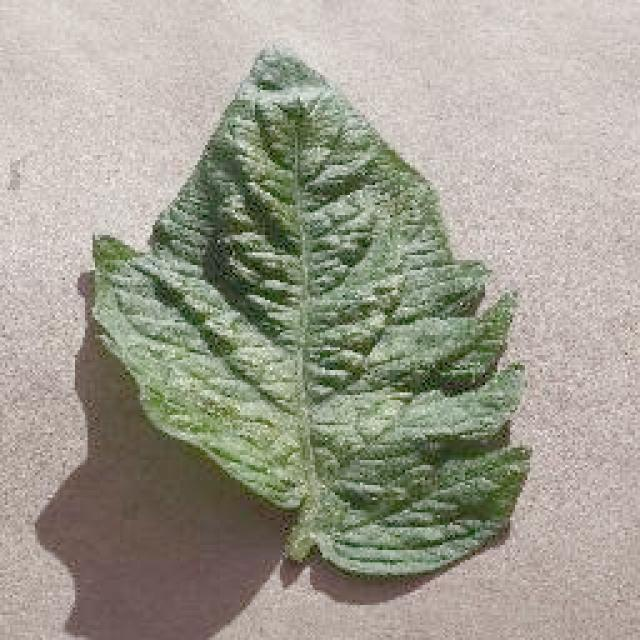Tomato spider mites leaf: (92, 42, 530, 576)
